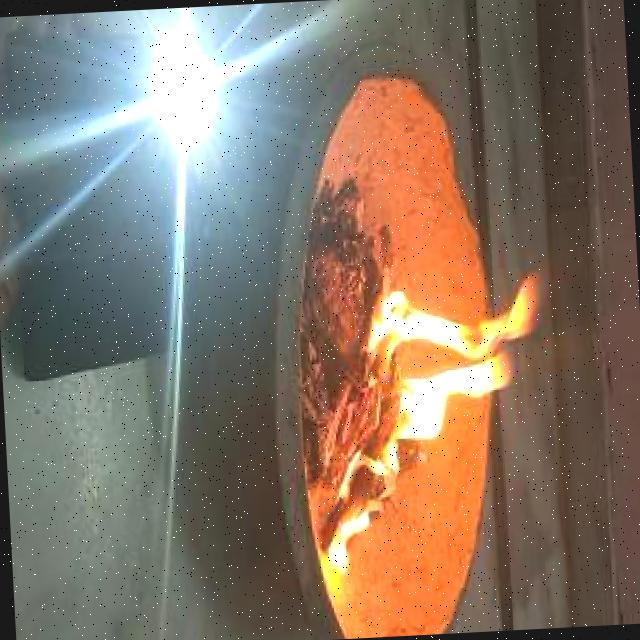fire: (310, 261, 571, 565)
